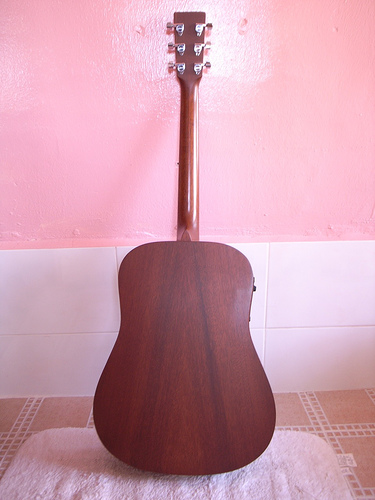guitar: (91, 9, 279, 479)
